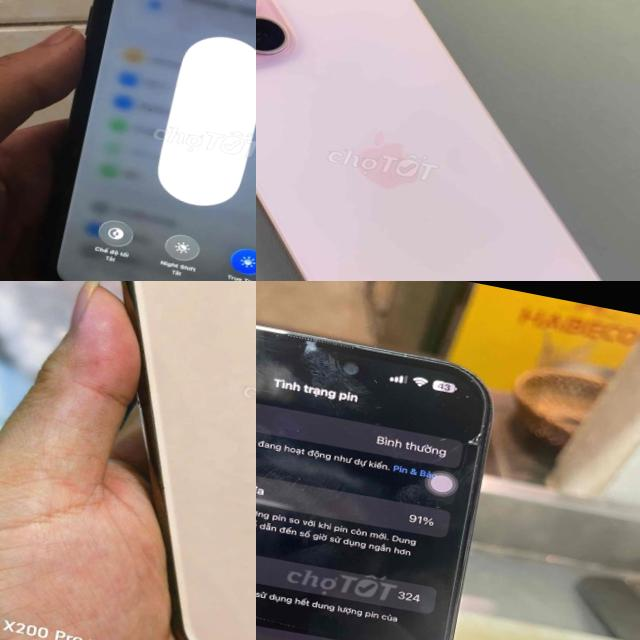gen_11: (0, 281, 256, 640), (50, 0, 256, 281)
gen_15: (256, 0, 640, 281)
gen_16: (256, 281, 535, 640)
screen_defect: (456, 414, 498, 466)
